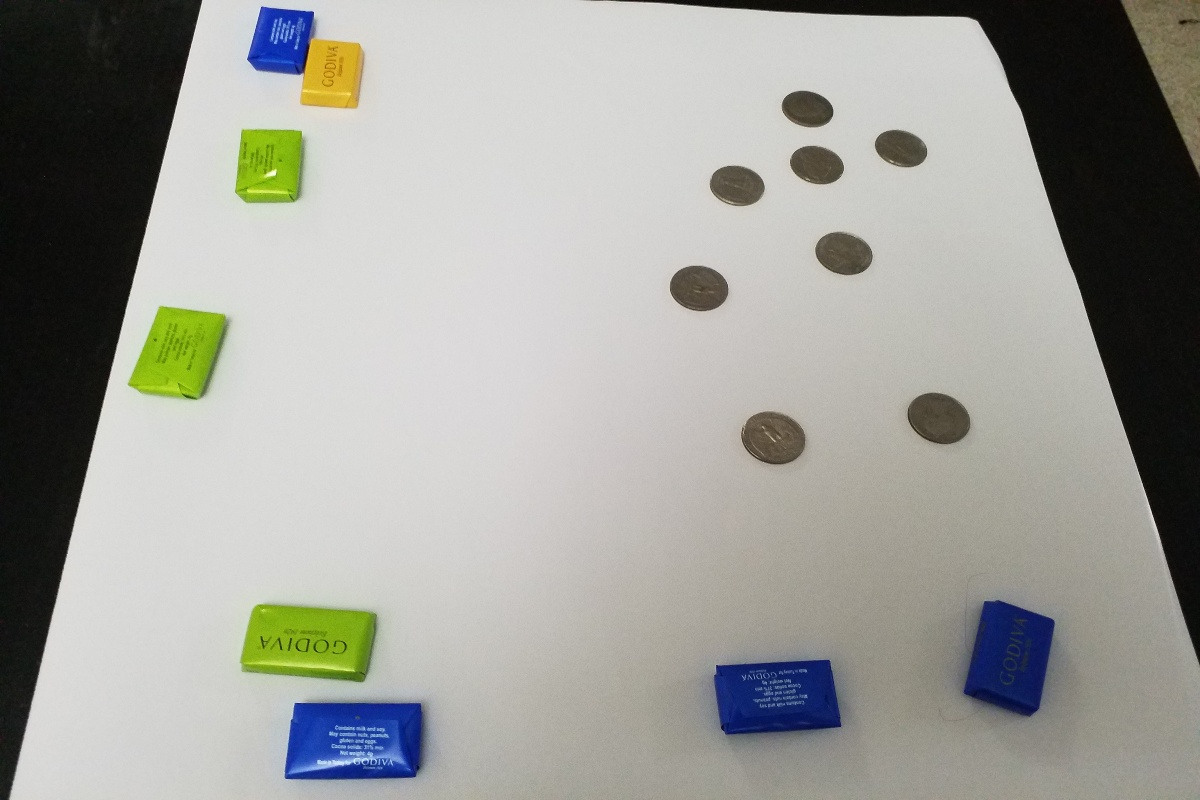chocolate_blue: (944, 583, 1074, 733), (698, 649, 864, 749), (276, 694, 445, 785), (237, 3, 313, 77)
chocolate_green: (227, 591, 397, 692), (127, 301, 234, 421), (223, 120, 326, 214)
chocolate_yellow: (302, 32, 377, 124)
coin_quarter: (726, 394, 817, 486), (896, 379, 982, 470), (663, 253, 738, 322), (863, 116, 938, 181), (815, 219, 885, 285), (702, 156, 773, 220), (777, 138, 855, 196), (767, 78, 843, 132)
